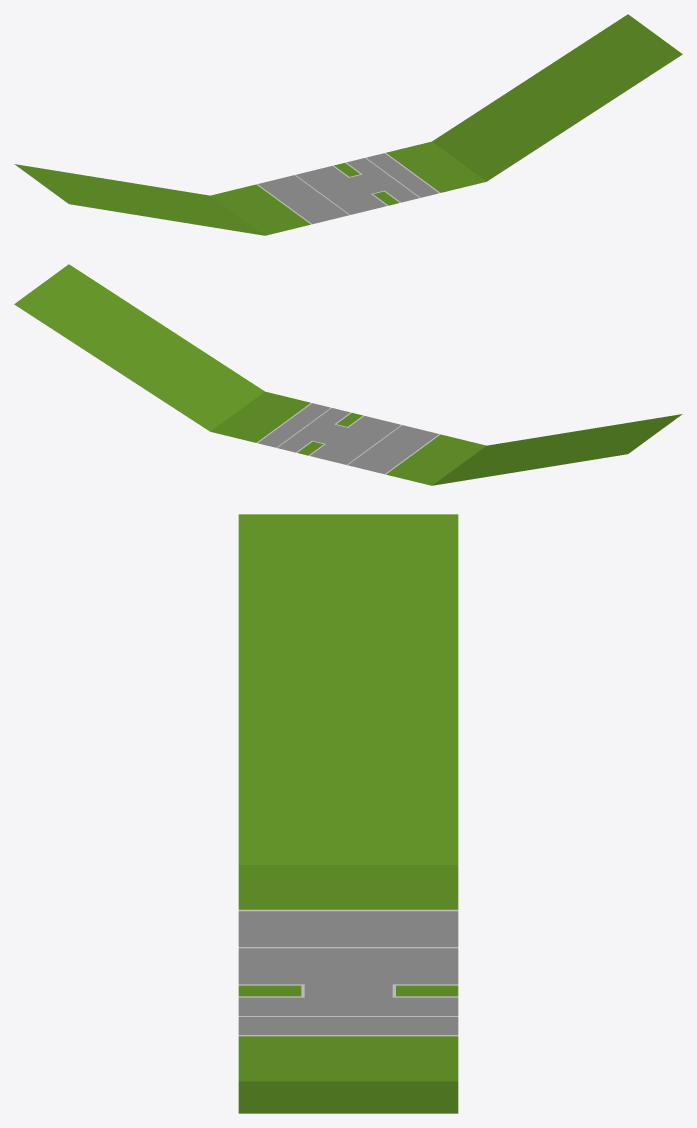
The model's file is RoadB.fbx.
The picture shows the model from 3 angles, top to bottom: view 1: azimuth 30°, elevation 25°; view 2: azimuth 150°, elevation 25°; view 3: azimuth 270°, elevation 25°; orthographic projection. The views are drawn at different scales.
Parts seen in each view (by area): view 1: RoadB; view 2: RoadB; view 3: RoadB.
Boxes of the visible parts, bbox=[...] form: RoadB: bbox=[14, 14, 682, 235]; RoadB: bbox=[14, 264, 682, 485]; RoadB: bbox=[238, 514, 458, 1113].
Size of the model in its own units: 19343 by 2394 by 2997.
